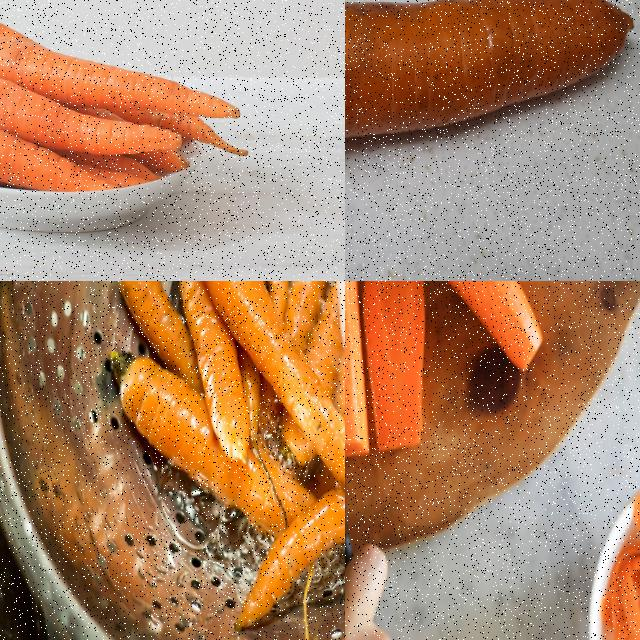carrot: (96, 281, 344, 639), (345, 0, 639, 160), (0, 16, 258, 195), (422, 281, 546, 378), (361, 281, 428, 451), (345, 281, 374, 462)
